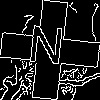N: (25, 25, 66, 75)
